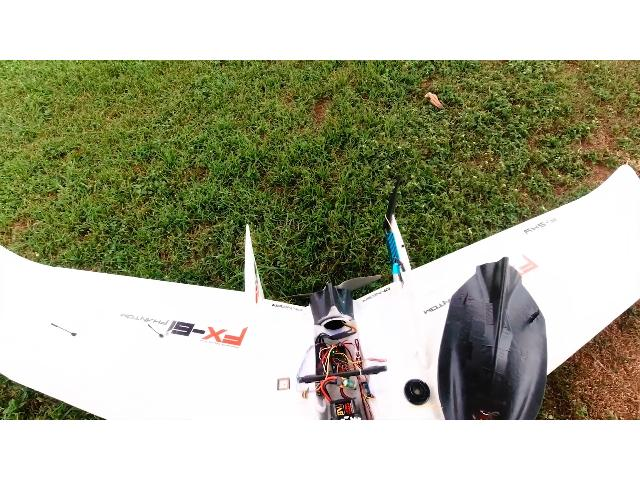Anti-Drone: (0, 152, 640, 420)
